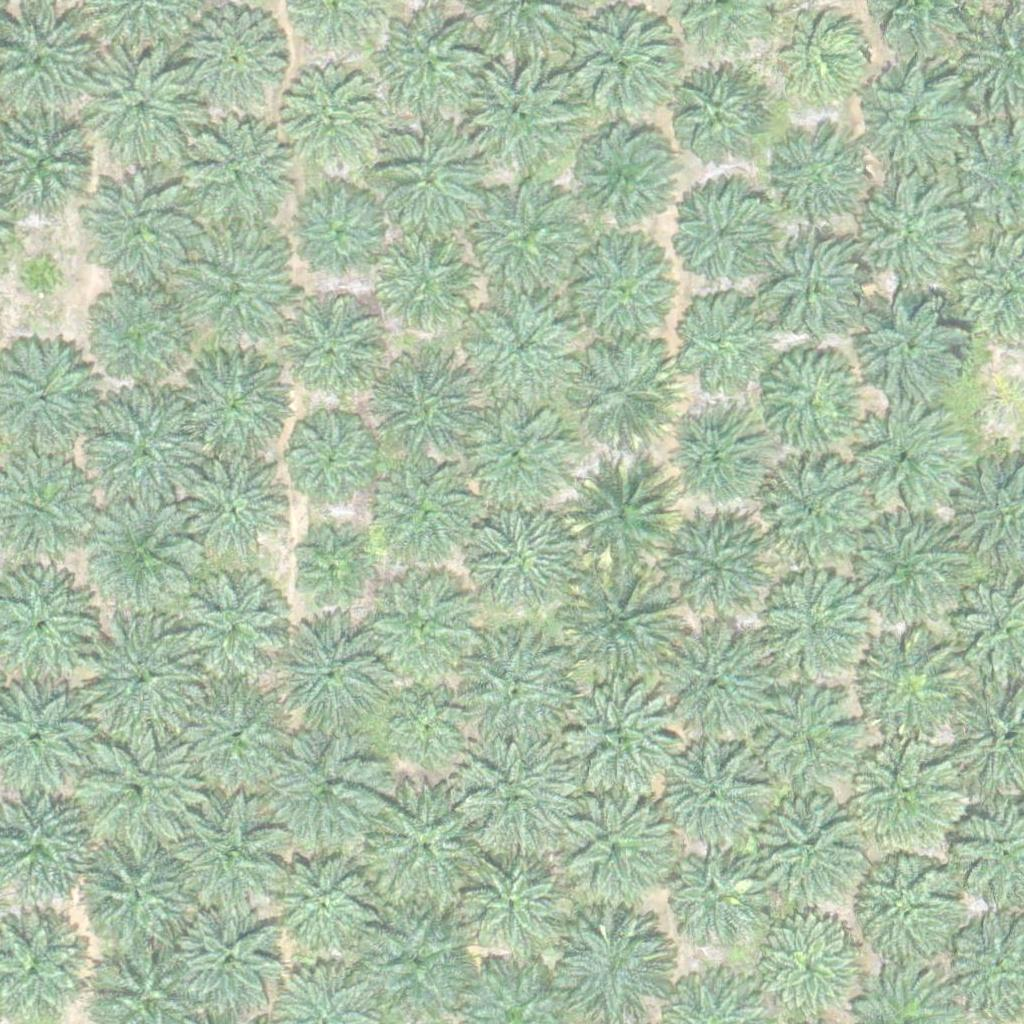Kelapa_Sawit: (84, 393, 209, 519), (77, 614, 202, 740), (73, 729, 198, 855), (369, 785, 494, 911), (455, 632, 580, 758), (460, 507, 573, 621), (371, 350, 484, 464), (178, 680, 291, 794), (175, 573, 288, 687), (370, 7, 483, 120), (851, 520, 964, 633), (756, 229, 869, 342), (757, 458, 870, 571), (373, 122, 486, 235), (86, 501, 199, 614), (174, 905, 287, 1018), (171, 801, 284, 914), (461, 737, 574, 850), (558, 794, 671, 907), (563, 690, 676, 803), (174, 6, 286, 120), (178, 112, 290, 226), (179, 230, 291, 344), (87, 51, 199, 165), (85, 176, 197, 290), (270, 621, 382, 735), (272, 735, 384, 849), (561, 5, 673, 118), (852, 406, 964, 519), (854, 289, 966, 402), (854, 181, 966, 294), (858, 63, 970, 176), (662, 517, 774, 630), (568, 236, 680, 349), (564, 336, 676, 449), (569, 461, 681, 574), (465, 291, 577, 404), (470, 189, 582, 302), (469, 55, 581, 168), (176, 345, 288, 458), (82, 843, 194, 956), (564, 566, 676, 679), (659, 626, 771, 739), (655, 735, 767, 848), (754, 798, 866, 911), (763, 349, 863, 450), (668, 408, 768, 509), (671, 294, 771, 395), (675, 188, 775, 289), (673, 67, 773, 168), (578, 128, 678, 229), (278, 73, 378, 174), (185, 459, 285, 560), (90, 283, 190, 384), (372, 583, 472, 684), (665, 839, 765, 940), (753, 682, 853, 783), (763, 573, 863, 674), (863, 631, 963, 732), (855, 748, 955, 849), (858, 857, 958, 958), (469, 402, 569, 502), (375, 240, 475, 340), (377, 462, 477, 562), (271, 853, 371, 953), (464, 849, 564, 949), (288, 418, 376, 506), (290, 313, 378, 401), (777, 16, 864, 104), (776, 129, 863, 217), (298, 193, 385, 281), (291, 533, 366, 609), (393, 692, 468, 768), (16, 254, 66, 304)
